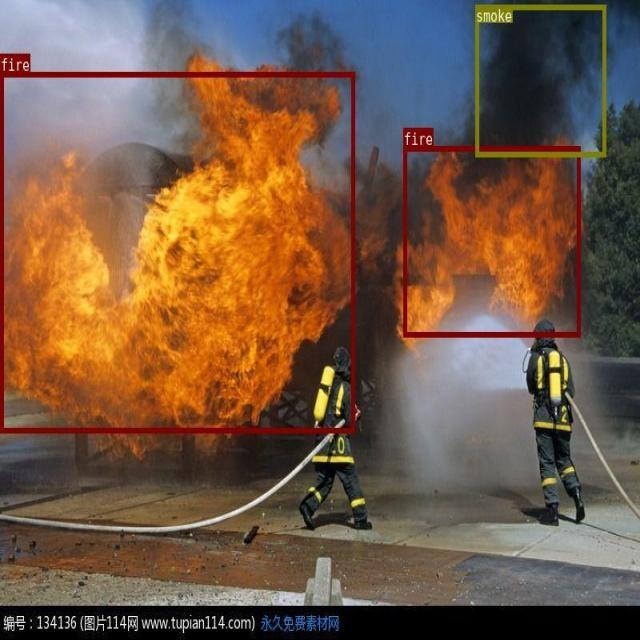fire: (0, 71, 354, 431), (403, 146, 580, 336)
smoke: (475, 4, 605, 156)
